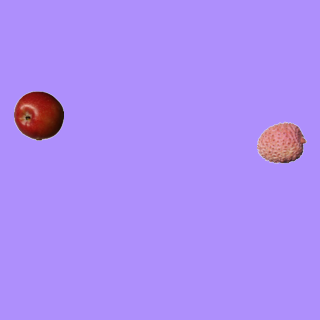Apple Braeburn: (13, 90, 63, 140)
Lychee: (256, 117, 306, 167)
